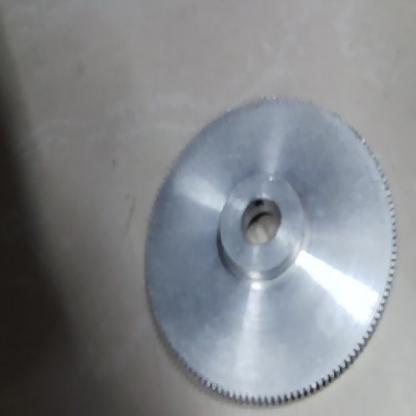FOD: (136, 76, 399, 410)
